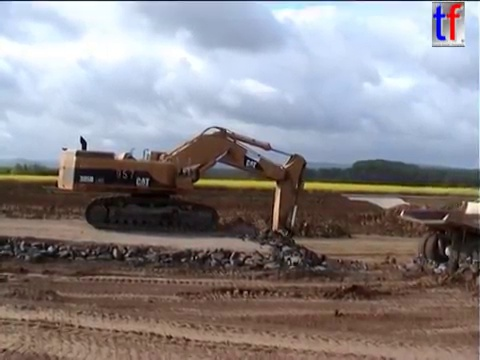excavator: (54, 124, 310, 271)
truck: (398, 197, 480, 280)
